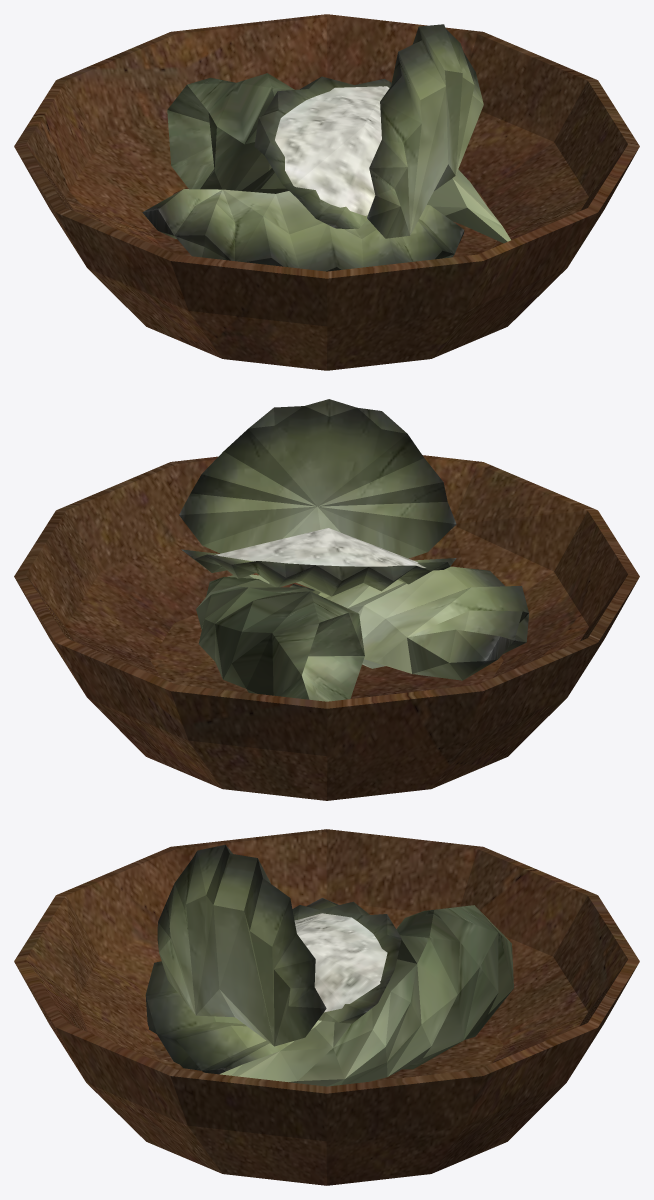
The model's file is KM_ITFO_SEAFRUIT.glb.
3 views of the same model, one above another, from view 1: azimuth 30°, elevation 25°; view 2: azimuth 150°, elevation 25°; view 3: azimuth 270°, elevation 25° (orthographic).
Visible parts, largest first — view 1: KM_ITFO_SEAFRUIT; view 2: KM_ITFO_SEAFRUIT; view 3: KM_ITFO_SEAFRUIT.
Boxes of the visible parts, x1,y1,x2,y2 form: KM_ITFO_SEAFRUIT: (14, 14, 639, 370); KM_ITFO_SEAFRUIT: (14, 399, 639, 800); KM_ITFO_SEAFRUIT: (14, 829, 639, 1185).
Size of the model in its own units: 0.2928 by 0.138 by 0.2928.
3 materials, 3 textured.
